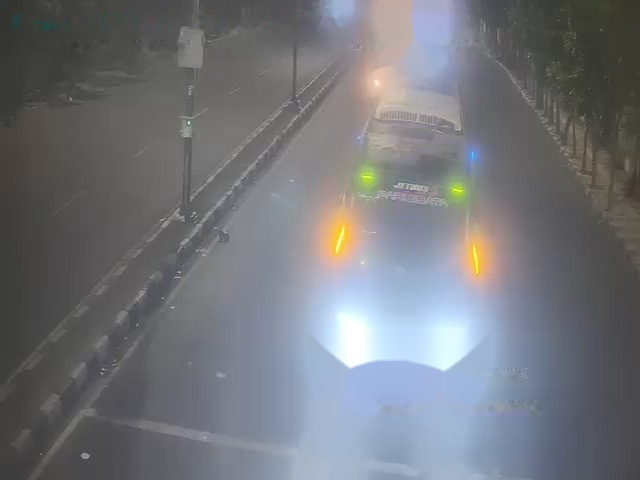Bis: (334, 75, 483, 386)
